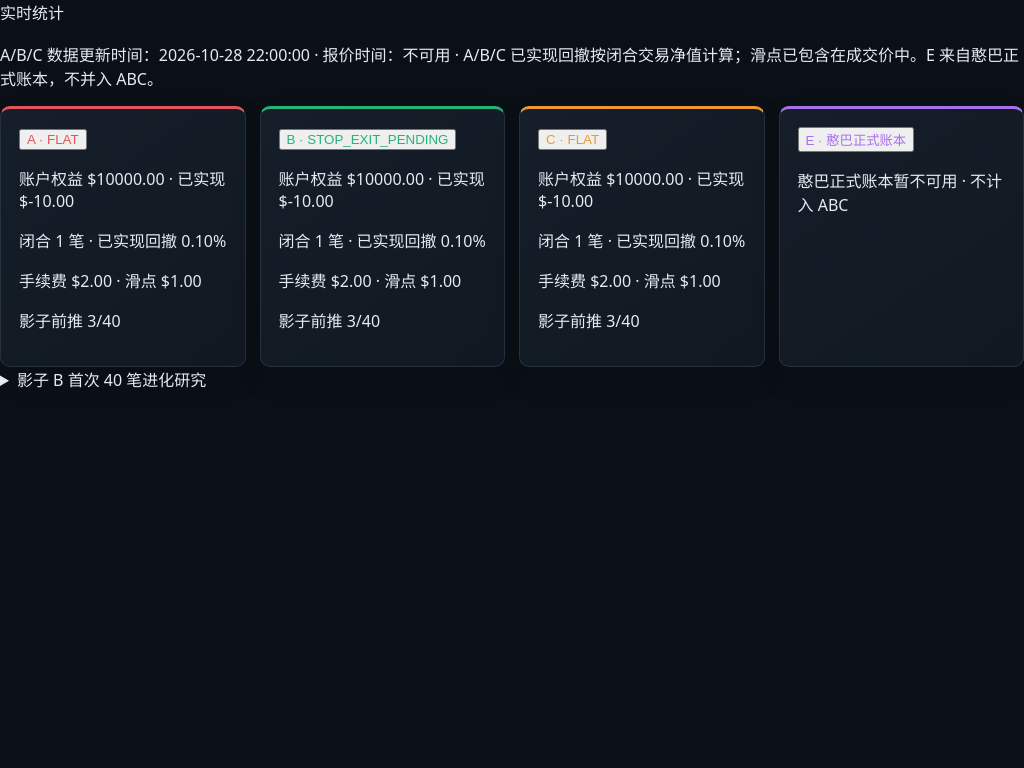
separates realized and floating, pending stop and 40 trade shadow progress
Expected: the text "影子前推 3/40" is shown 3 times, x1=19 y1=310 x2=121 y2=332; x1=278 y1=310 x2=380 y2=332; x1=538 y1=310 x2=640 y2=332
What coordinates should you click on to do the following:
click the button with aria-label "B 统计详情"
I would click on:
 (368, 140)
Its box is x1=278 y1=129 x2=456 y2=150.
(page scrolled)
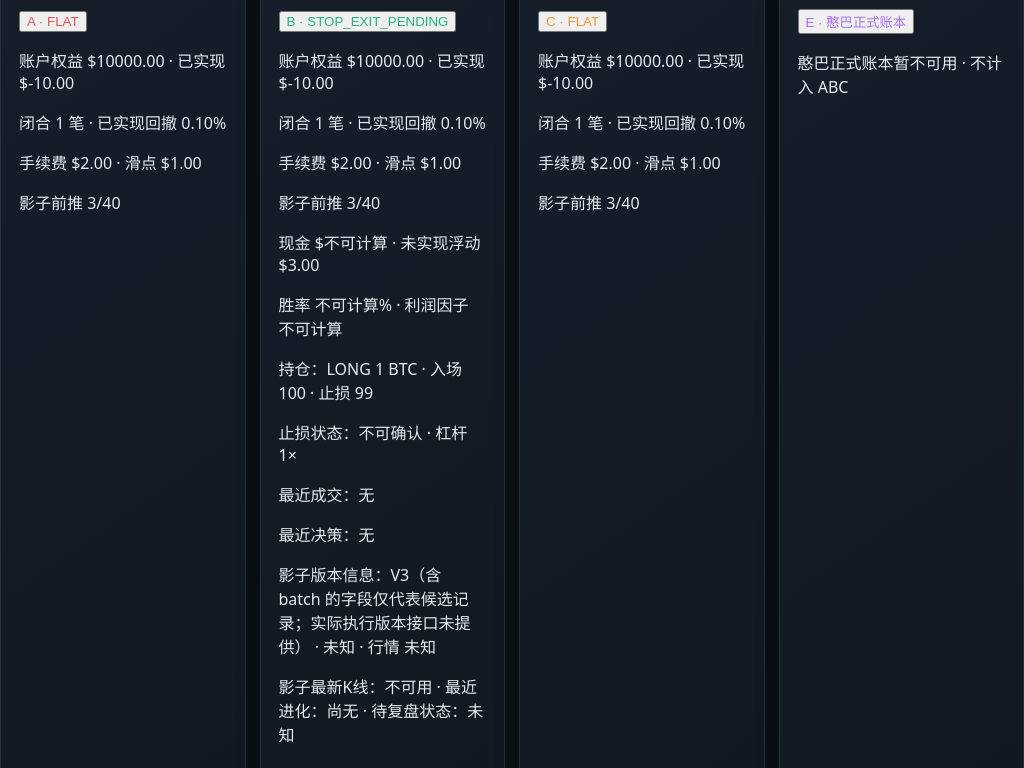
Expected: the element named "憨巴正式账本统计" shows "憨巴正式账本暂不可用", x1=798 y1=52 x2=958 y2=74
Expected: the text "现金 $不可计算 · 未实现浮动 $3.00" is shown, x1=278 y1=230 x2=486 y2=276
